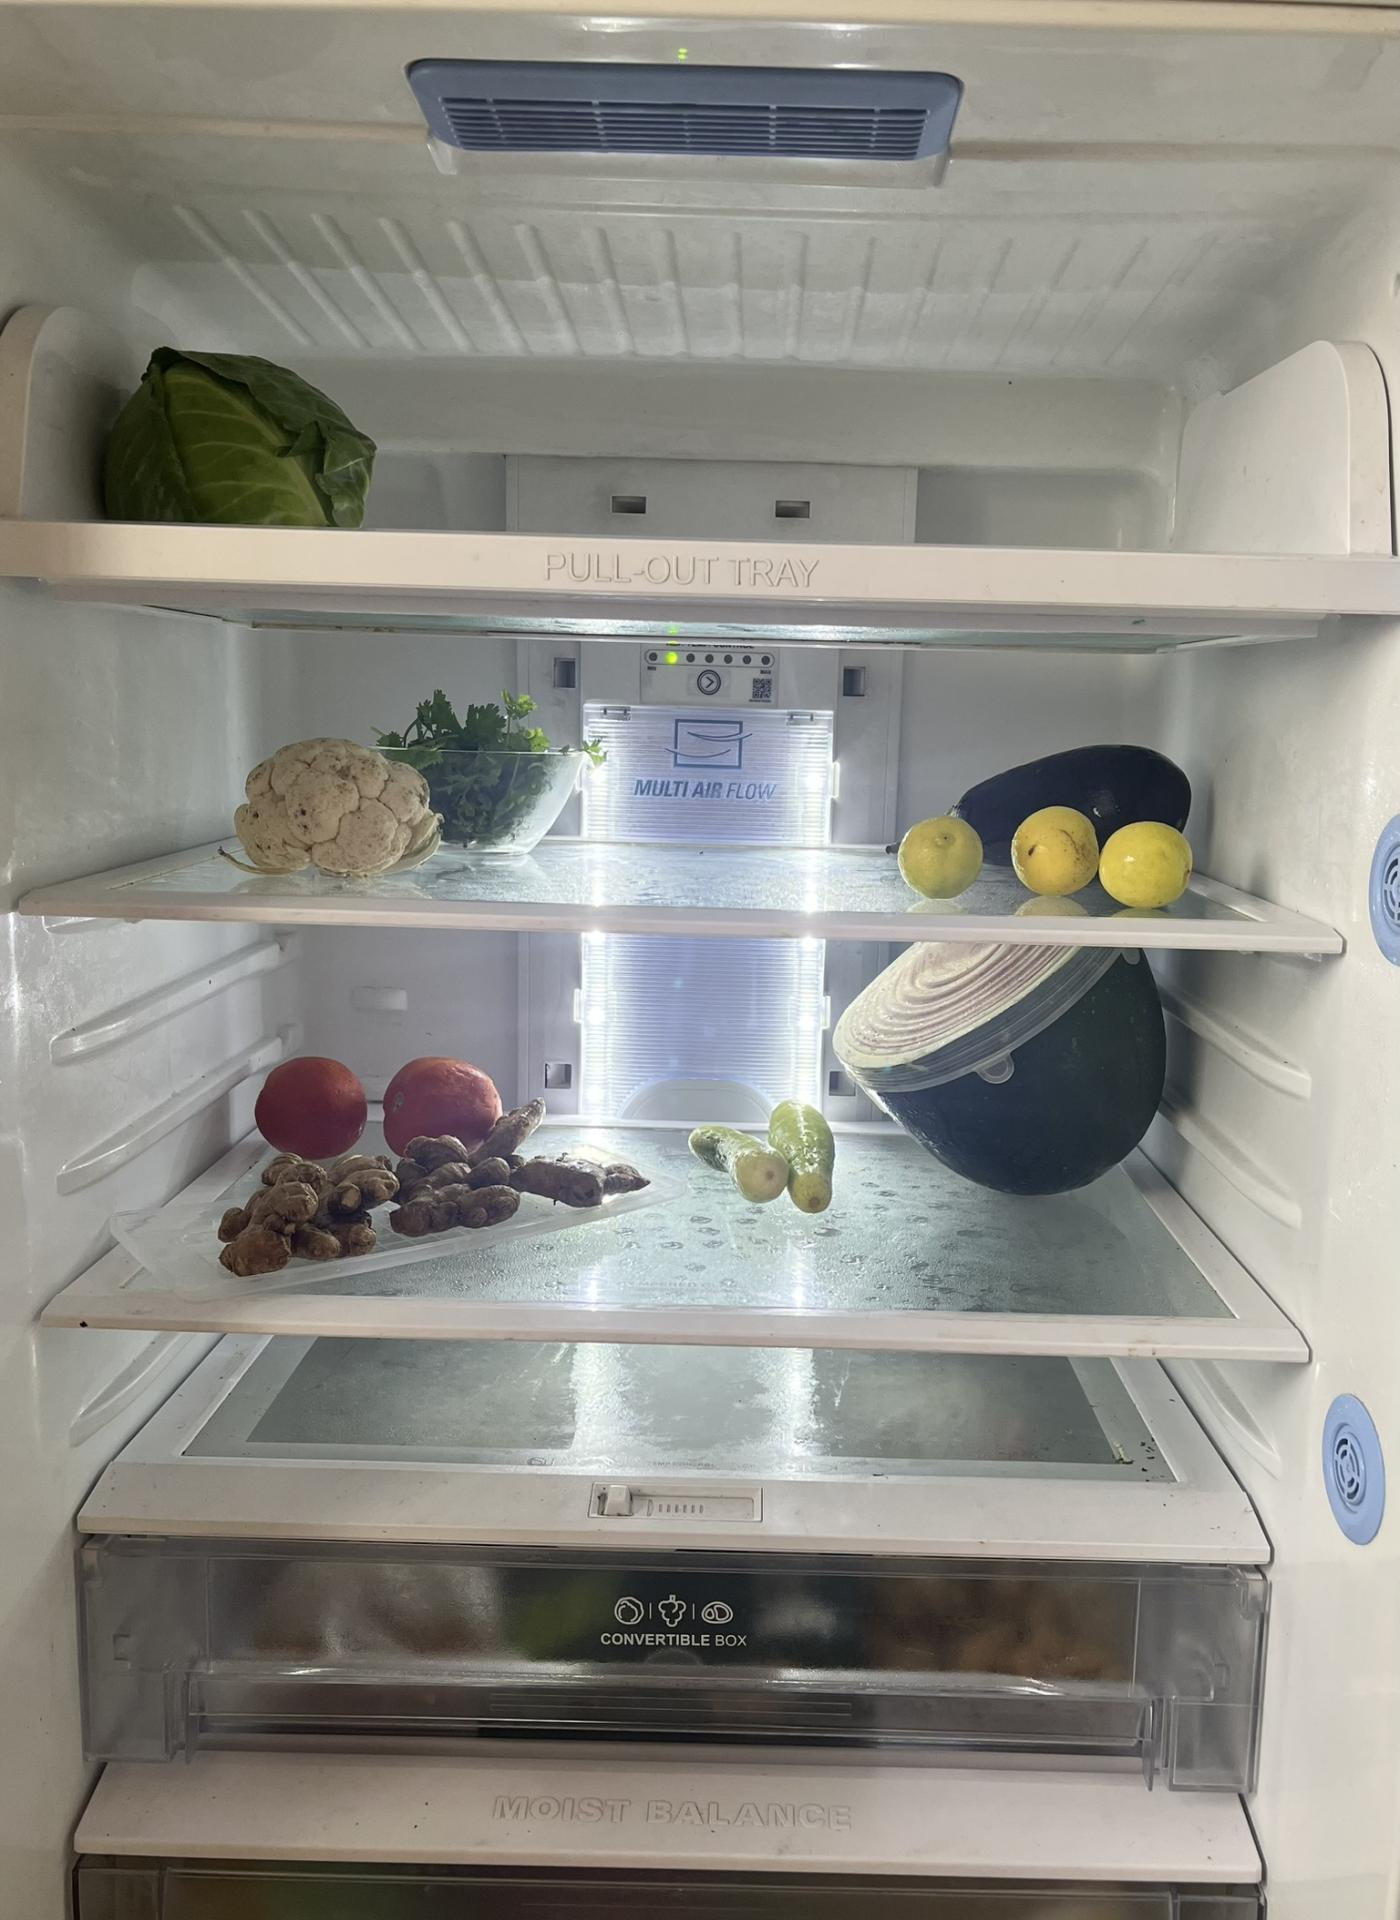cabbage: (115, 347, 364, 522)
cauliflower: (237, 738, 431, 881)
coriander: (386, 690, 565, 847)
cucumber: (683, 1103, 832, 1206)
ginger: (225, 1125, 626, 1269)
lemon: (1012, 803, 1188, 906), (899, 800, 984, 903)
tomato: (386, 1052, 510, 1152), (252, 1057, 365, 1163)
watermelon: (835, 938, 1176, 1191)
